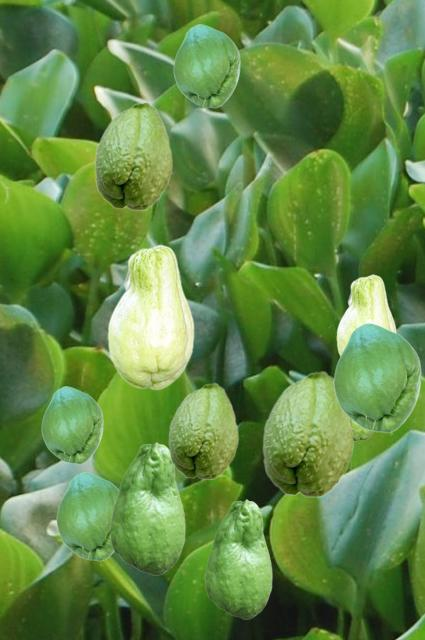sayote: (107, 244, 193, 389), (262, 370, 353, 497), (110, 442, 184, 574), (333, 323, 420, 432), (94, 101, 172, 210), (205, 499, 271, 618), (168, 382, 238, 479), (173, 24, 239, 107), (56, 472, 118, 560), (336, 274, 395, 355), (41, 386, 102, 463), (351, 421, 374, 440)
